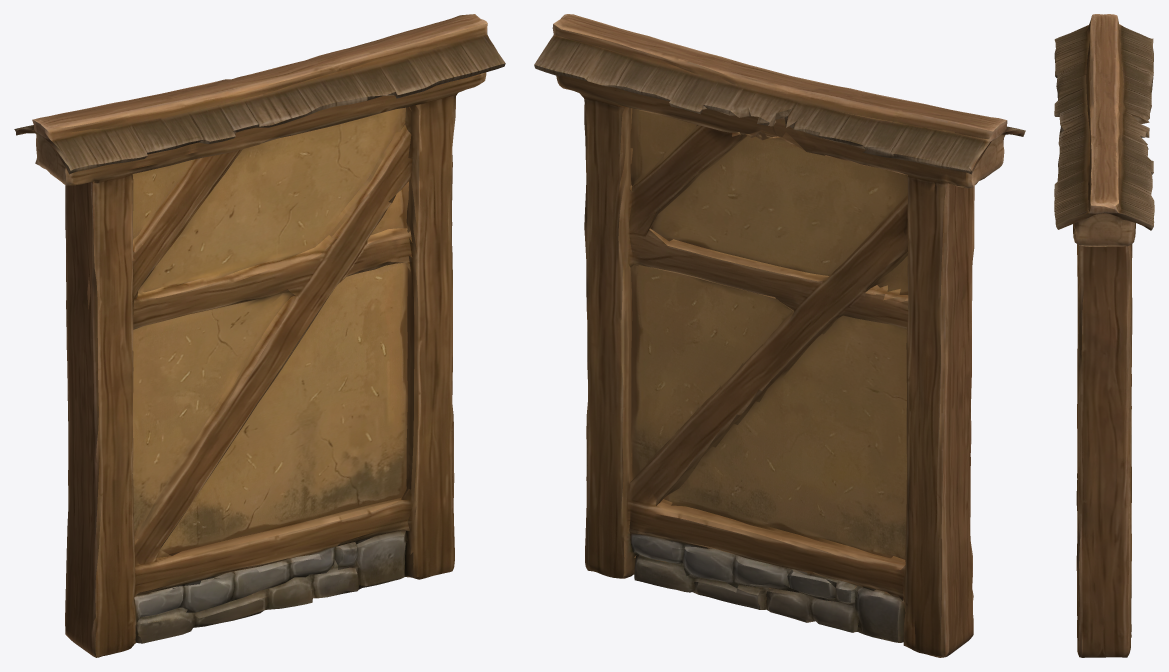
File: homestead_wall_segment_v2.glb
The picture shows the model from 3 angles, left to right: view 1: azimuth 30°, elevation 25°; view 2: azimuth 150°, elevation 25°; view 3: azimuth 270°, elevation 25°; orthographic projection. The views are drawn at different scales.
Visible parts, largest first — view 1: Mesh_0; view 2: Mesh_0; view 3: Mesh_0.
Boxes of the visible parts, left/top/right/bottom form: Mesh_0: left=14, top=14, right=505, bottom=657; Mesh_0: left=534, top=14, right=1025, bottom=657; Mesh_0: left=1054, top=14, right=1154, bottom=657.
Size of the model in its own units: 1.64 by 1.9 by 0.3659.
1 material, 1 textured.
